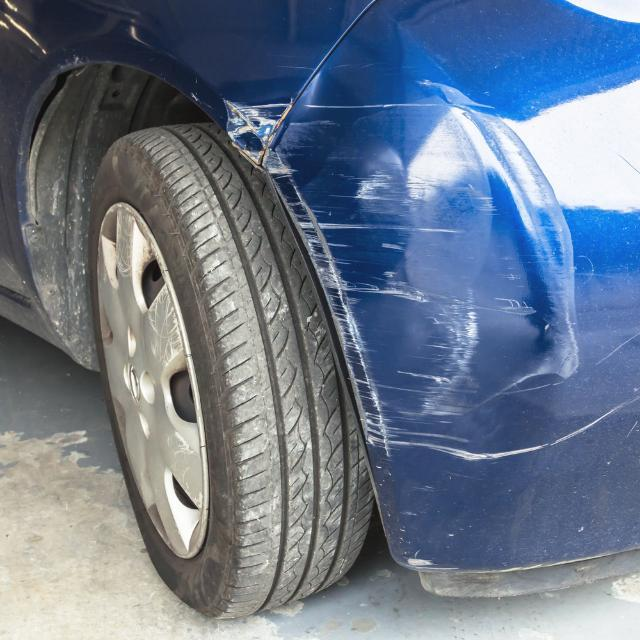scratch: (259, 77, 640, 481), (224, 96, 295, 162)
